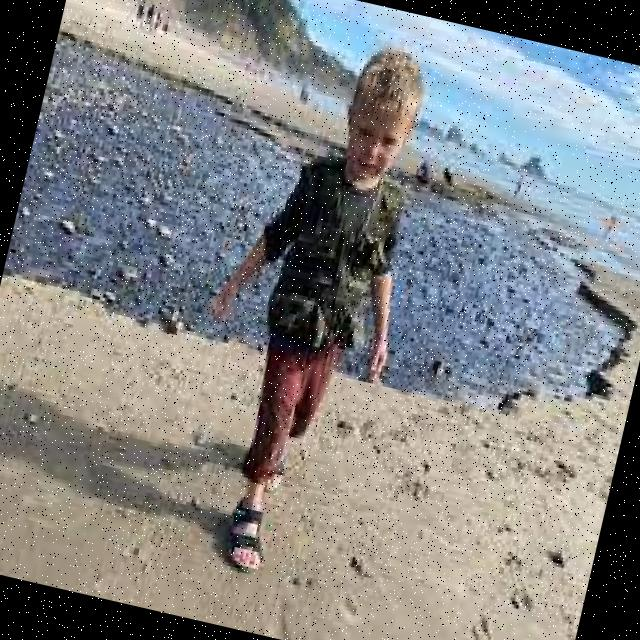Person: (156, 19, 454, 588)
